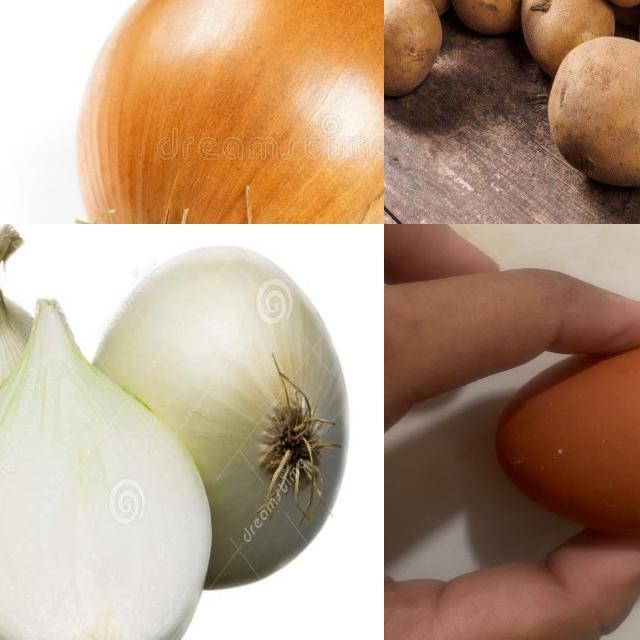egg: (497, 329, 640, 534)
onion: (89, 247, 353, 588), (1, 298, 214, 640), (78, 1, 385, 225), (1, 227, 70, 609)
potato: (549, 28, 640, 191), (385, 1, 452, 102)
